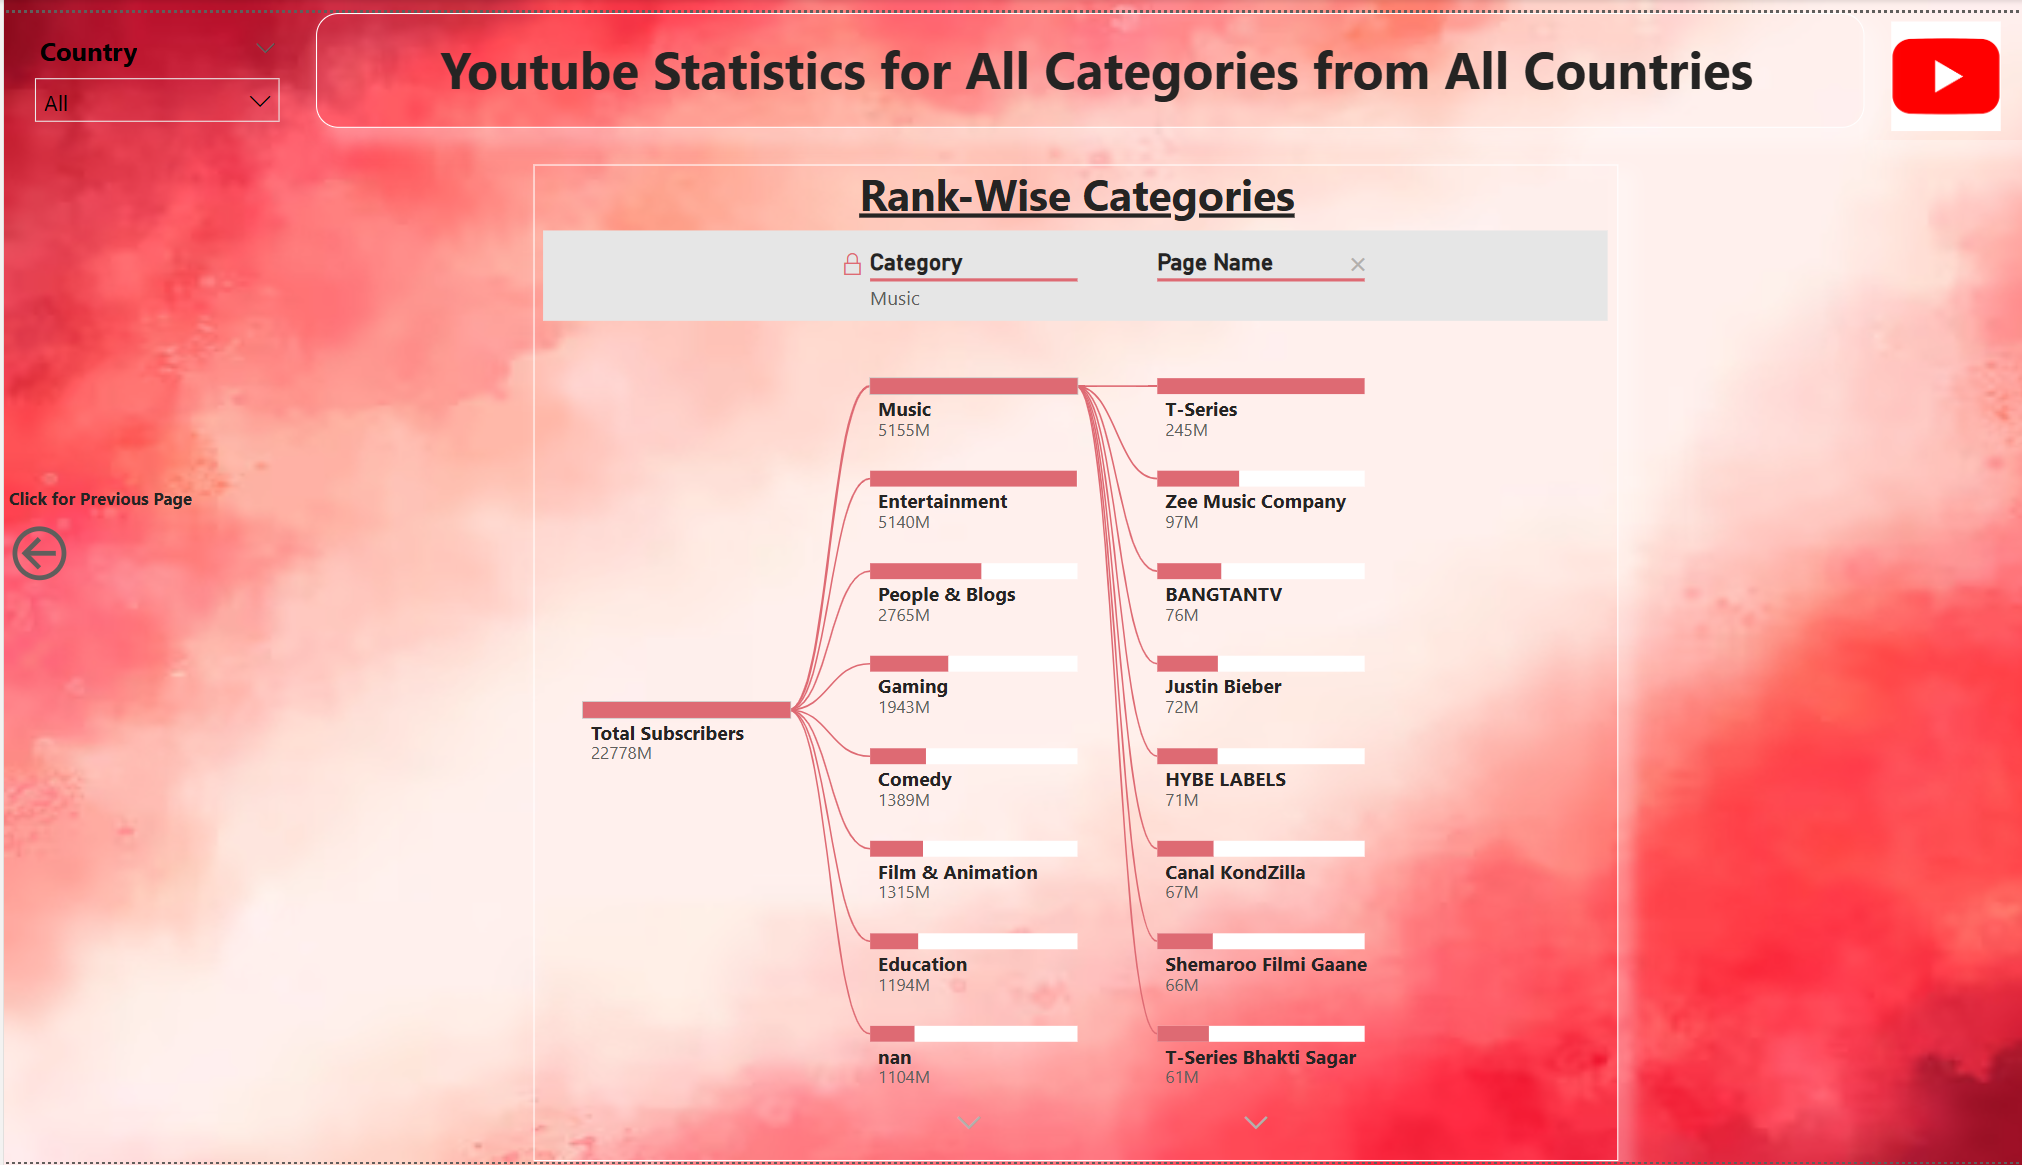

The dashboard page shown, as its layout file describes it:
{"tool":"powerbi","page":{"name":"Statistics 2","canvas":[1280,720],"ordinal":1},"visuals":[{"type":"image","box":[1164.7,0,104.1,79],"z":0},{"type":"card","fields":{"Values":["Global YouTube Statistics.Display"]},"box":[195.1,0,970.8,71.8],"z":1000},{"type":"slicer","fields":{"Values":["Global YouTube Statistics.Country"]},"box":[9.6,7.2,173.6,71.8],"z":2000},{"type":"decompositionTreeVisual","title":"Rank-Wise Categories","fields":{"ExplainBy":["Global YouTube Statistics.category","Global YouTube Statistics.Youtuber"],"Analyze":["Global YouTube Statistics.subscribers"]},"box":[331.6,94.6,679.9,624.8],"z":3000},{"type":"actionButton","title":"Click for Previous Page","box":[0,296.9,120.9,63.4],"z":4000}]}

Visuals, with their boxes in screenshot pixels (x1, y1, x2, y2), scaled from the page's 1280x720 canvas onto the 2022x1165 screenshot:
image: 1840,0,2004,128
card - Global YouTube Statistics.Display: 308,0,1842,116
slicer - Global YouTube Statistics.Country: 15,12,289,128
"Rank-Wise Categories" decompositionTreeVisual: 524,153,1598,1164
"Click for Previous Page" actionButton: 0,480,191,583
